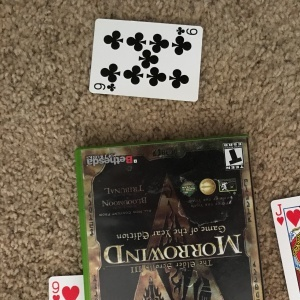card: (90, 17, 203, 104)
